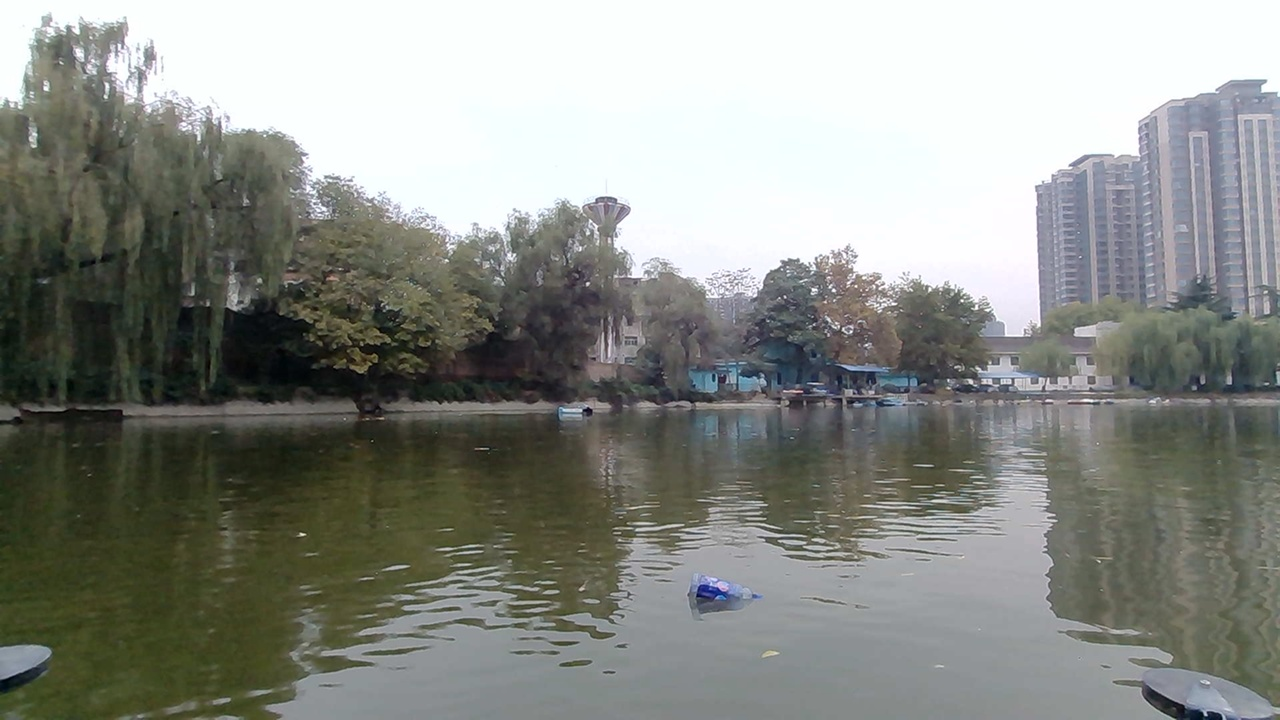bottle: (696, 580, 741, 614)
